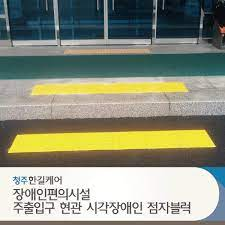guide_blocks: (9, 130, 214, 149), (32, 83, 186, 93), (65, 48, 149, 54)
